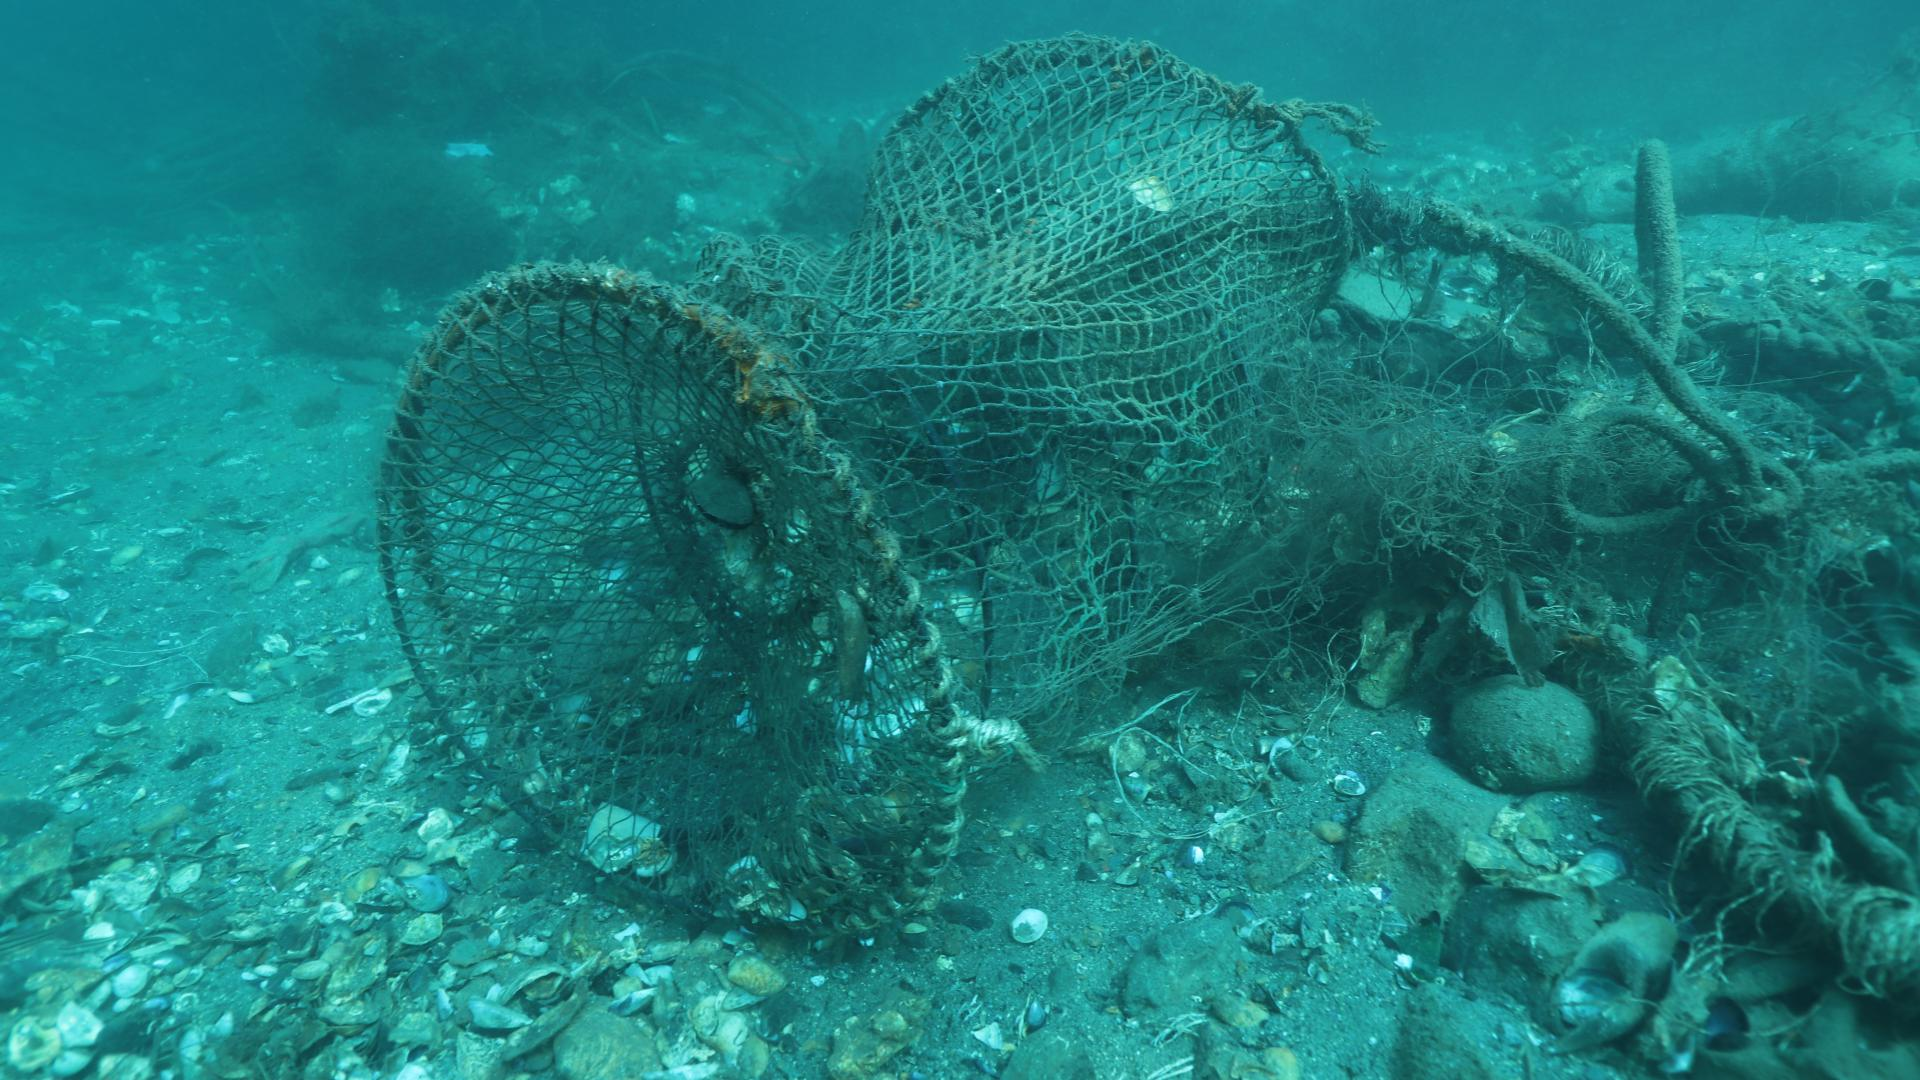bundle of ropes: (1275, 98, 1362, 135)
rope: (1695, 311, 1907, 364)
spring fish trap: (371, 26, 1361, 957)
